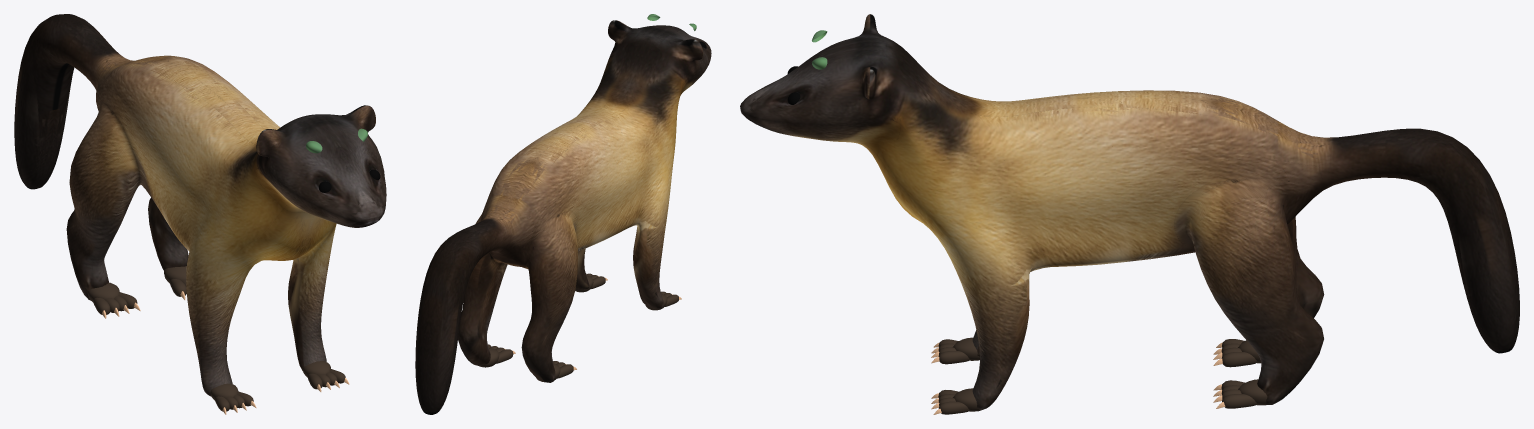
File: 14_Martes flavigula_หมาไม้.fbx
3 renders of one model, left to right at view 1: azimuth 30°, elevation 25°; view 2: azimuth 150°, elevation 25°; view 3: azimuth 270°, elevation 25°, orthographic. The views are drawn at different scales.
Parts seen in each view (by area): view 1: Cube, Cube.009, Cube.002; view 2: Cube, Cube.002, Cube.009; view 3: Cube, Cube.002, Cube.009.
Part boxes in pixels (left/top/right/bottom): Cube: left=14, top=14, right=386, bottom=396; Cube.009: left=210, top=361, right=345, bottom=411; Cube.002: left=87, top=266, right=186, bottom=314; Cube: left=415, top=20, right=711, bottom=414; Cube.002: left=479, top=344, right=573, bottom=382; Cube.009: left=575, top=273, right=678, bottom=310; Cube: left=740, top=14, right=1519, bottom=409; Cube.002: left=1221, top=339, right=1267, bottom=408; Cube.009: left=938, top=337, right=983, bottom=414.
Bounding box in the file's own units: 544 × 1180 × 2444.
Materials: 5 (2 with a texture image).
